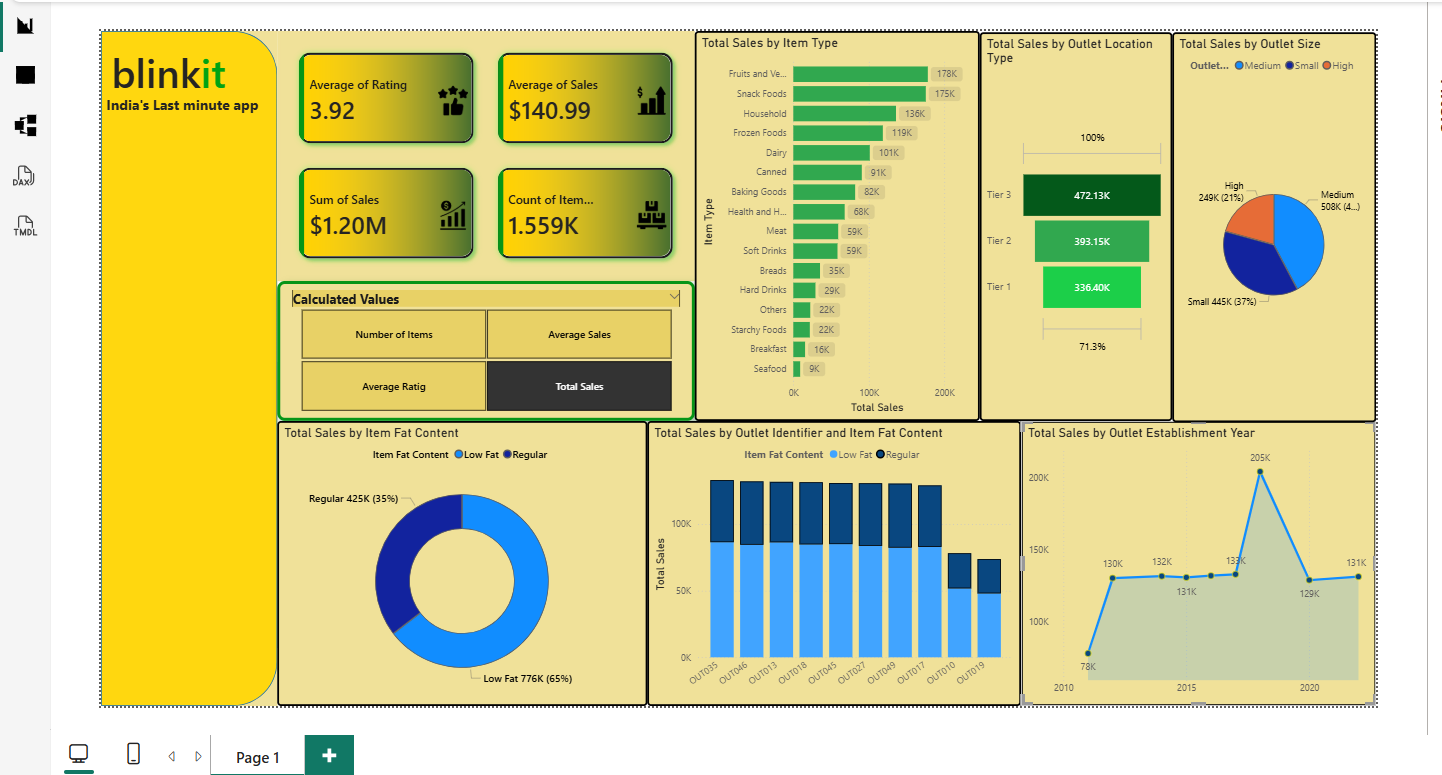

What the dashboard file says about the page in this screenshot:
{"tool":"powerbi","page":{"name":"Page 1","canvas":[1700,900],"ordinal":0},"visuals":[{"type":"shape","box":[0,0,235,900],"z":0},{"type":"textbox","box":[0,12.9,180,85.7],"z":1000},{"type":"textbox","box":[0,80,217.1,55.7],"z":2000},{"type":"cardVisual","fields":{"Data":["Avg(BlinkIT Grocery Data.Rating)","Avg(BlinkIT Grocery Data.Sales)","Sum(BlinkIT Grocery Data.Sales)","Count(BlinkIT Grocery Data.Item Identifier)"]},"box":[235,0,556.7,333.3],"z":3000},{"type":"slicer","fields":{"Values":["Calculated Values.Calculated Values"]},"box":[235,333.3,556.7,186.7],"z":4000},{"type":"donutChart","fields":{"Y":["BlinkIT Grocery Data.Total Sales"],"Category":["BlinkIT Grocery Data.Item Fat Content"]},"box":[235,520,493.3,380],"z":5000},{"type":"clusteredBarChart","fields":{"Category":["BlinkIT Grocery Data.Item Type"],"Y":["BlinkIT Grocery Data.Total Sales"]},"box":[791.7,0,380,520],"z":6000},{"type":"columnChart","fields":{"Category":["BlinkIT Grocery Data.Outlet Identifier"],"Series":["BlinkIT Grocery Data.Item Fat Content"],"Y":["BlinkIT Grocery Data.Total Sales"]},"box":[728.3,520,498.3,380],"z":7000},{"type":"lineChart","fields":{"Y":["BlinkIT Grocery Data.Total Sales"],"Category":["BlinkIT Grocery Data.Outlet Establishment Year"]},"box":[1226.7,520,473.3,380],"z":8000},{"type":"pieChart","fields":{"Y":["BlinkIT Grocery Data.Total Sales"],"Category":["BlinkIT Grocery Data.Outlet Size"]},"box":[1428.3,1.7,271.7,520],"z":9000},{"type":"funnel","fields":{"Y":["BlinkIT Grocery Data.Total Sales"],"Category":["BlinkIT Grocery Data.Outlet Location Type"]},"box":[1171.7,1.7,256.7,518.3],"z":10000}]}

Visuals, with their boxes on the page's 1700x900 design canvas (x1, y1, x2, y2). These are canvas units, not pixel positions in the 1442x775 screenshot, which may show the page scaled, cropped or inside an application window:
shape: (0, 0, 235, 900)
textbox: (0, 13, 180, 99)
textbox: (0, 80, 217, 136)
cardVisual - Avg(BlinkIT Grocery Data.Rating) x Avg(BlinkIT Grocery Data.Sales): (235, 0, 792, 333)
slicer - Calculated Values.Calculated Values: (235, 333, 792, 520)
donutChart - BlinkIT Grocery Data.Total Sales x BlinkIT Grocery Data.Item Fat Content: (235, 520, 728, 900)
clusteredBarChart - BlinkIT Grocery Data.Item Type x BlinkIT Grocery Data.Total Sales: (792, 0, 1172, 520)
columnChart - BlinkIT Grocery Data.Outlet Identifier x BlinkIT Grocery Data.Item Fat Content: (728, 520, 1227, 900)
lineChart - BlinkIT Grocery Data.Total Sales x BlinkIT Grocery Data.Outlet Establishment Year: (1227, 520, 1700, 900)
pieChart - BlinkIT Grocery Data.Total Sales x BlinkIT Grocery Data.Outlet Size: (1428, 2, 1700, 522)
funnel - BlinkIT Grocery Data.Total Sales x BlinkIT Grocery Data.Outlet Location Type: (1172, 2, 1428, 520)
